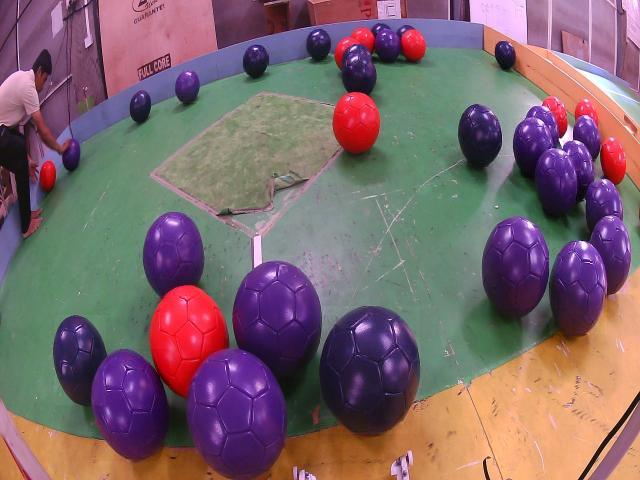jambhalya: (186, 349, 286, 478), (233, 260, 322, 378), (91, 350, 169, 461), (483, 217, 550, 318), (550, 242, 607, 334), (143, 213, 204, 297), (590, 215, 631, 294), (536, 148, 579, 217), (514, 119, 553, 178), (585, 179, 622, 232), (564, 141, 593, 200), (526, 106, 560, 146), (573, 115, 601, 160), (375, 28, 401, 62), (175, 72, 200, 103), (63, 138, 80, 171)
kaalyya: (320, 306, 420, 434), (54, 315, 106, 405), (458, 105, 502, 166), (342, 54, 376, 95), (244, 45, 268, 78), (306, 30, 331, 61), (130, 90, 151, 123), (342, 45, 371, 65), (495, 42, 516, 69), (371, 23, 390, 36), (396, 25, 414, 38)
